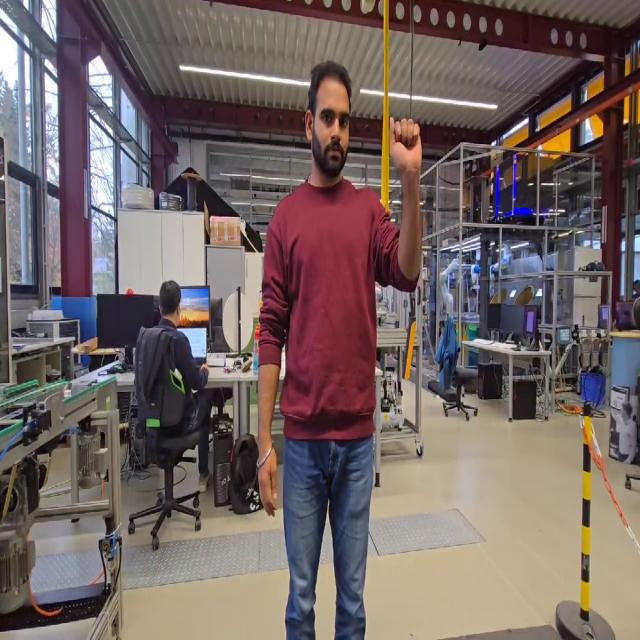closed_fist: (384, 110, 426, 182)
